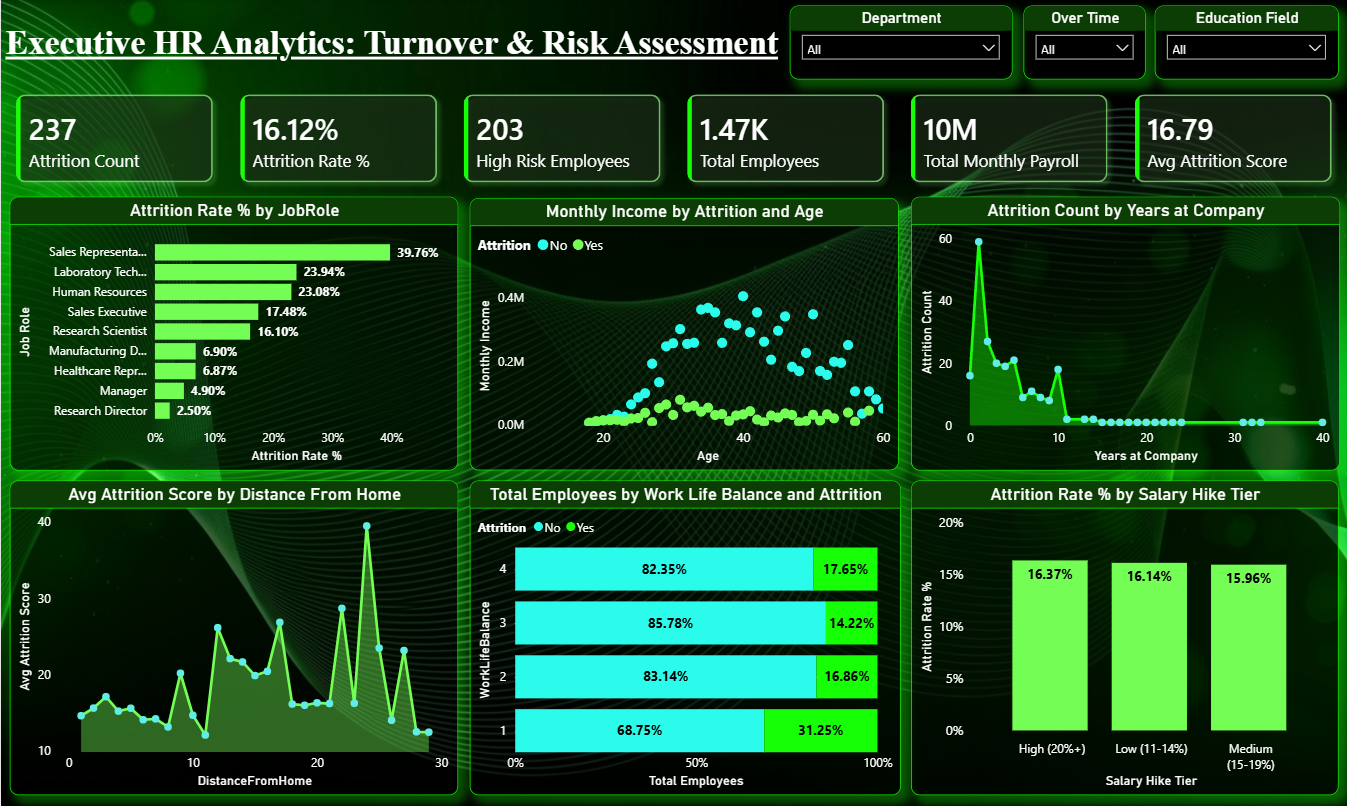

This screenshot's page, from the dashboard's own definition file:
{"tool":"powerbi","page":{"name":"Dashboard","canvas":[1500,900],"ordinal":0},"visuals":[{"type":"cardVisual","fields":{"Data":["Key Measures.Attrition Count","Key Measures.Attrition Rate %","Key Measures.High Risk Employees","Key Measures.Total Employees","Key Measures.Total Monthly Payroll","Key Measures.Avg Attrition Score"]},"box":[0,90.4,1500,132.2],"z":0},{"type":"clusteredBarChart","fields":{"Category":["HR_Analytics_for_PowerBI.JobRole"],"Y":["Key Measures.Attrition Rate %"]},"box":[9.7,221.2,499.5,304.7],"z":1},{"type":"scatterChart","title":"Monthly Income by Attrition and Age","fields":{"Y":["Sum(HR_Analytics_for_PowerBI.MonthlyIncome)"],"X":["HR_Analytics_for_PowerBI.Age"],"Series":["HR_Analytics_for_PowerBI.Attrition"]},"box":[521.8,222.6,477.3,303.3],"z":2},{"type":"lineChart","title":"Avg Attrition Score by Distance From Home","fields":{"Category":["HR_Analytics_for_PowerBI.DistanceFromHome"],"Y":["Key Measures.Avg Attrition Score"]},"box":[9.7,537.1,499.5,350.7],"z":3},{"type":"hundredPercentStackedBarChart","title":"Total Employees by Work Life Balance and Attrition","fields":{"Category":["HR_Analytics_for_PowerBI.WorkLifeBalance"],"Y":["Key Measures.Total Employees"],"Series":["HR_Analytics_for_PowerBI.Attrition"]},"box":[521.8,537.1,480.1,350.7],"z":4},{"type":"stackedAreaChart","title":"Attrition Count by Years at Company","fields":{"Category":["HR_Analytics_for_PowerBI.YearsAtCompany"],"Y":["Key Measures.Attrition Count"]},"box":[1013,221.2,477.3,304.7],"z":5},{"type":"clusteredColumnChart","fields":{"Category":["HR_Analytics_for_PowerBI.Salary Hike Tier"],"Y":["Key Measures.Attrition Rate %"]},"box":[1013,537.1,475.9,350.7],"z":6},{"type":"textbox","box":[0,23.7,878,79.3],"z":7},{"type":"slicer","title":"Department","fields":{"Values":["HR_Analytics_for_PowerBI.Department"]},"box":[878,8.3,247.7,82.1],"z":8},{"type":"slicer","title":"Over Time","fields":{"Values":["HR_Analytics_for_PowerBI.OverTime"]},"box":[1138.2,8.3,136.4,82.1],"z":9},{"type":"slicer","title":"Education Field","fields":{"Values":["HR_Analytics_for_PowerBI.EducationField"]},"box":[1284.3,8.3,204.5,82.1],"z":10}]}

Visuals, with their boxes in screenshot pixels (x1, y1, x2, y2), scaled from the page's 1500x900 canvas onto the 1347x806 screenshot:
cardVisual - Key Measures.Attrition Count x Key Measures.Attrition Rate %: 0,81,1346,199
clusteredBarChart - HR_Analytics_for_PowerBI.JobRole x Key Measures.Attrition Rate %: 9,198,457,471
"Monthly Income by Attrition and Age" scatterChart: 469,199,897,471
"Avg Attrition Score by Distance From Home" lineChart: 9,481,457,795
"Total Employees by Work Life Balance and Attrition" hundredPercentStackedBarChart: 469,481,900,795
"Attrition Count by Years at Company" stackedAreaChart: 910,198,1338,471
clusteredColumnChart - HR_Analytics_for_PowerBI.Salary Hike Tier x Key Measures.Attrition Rate %: 910,481,1337,795
textbox: 0,21,788,92
"Department" slicer: 788,7,1011,81
"Over Time" slicer: 1022,7,1145,81
"Education Field" slicer: 1153,7,1337,81
